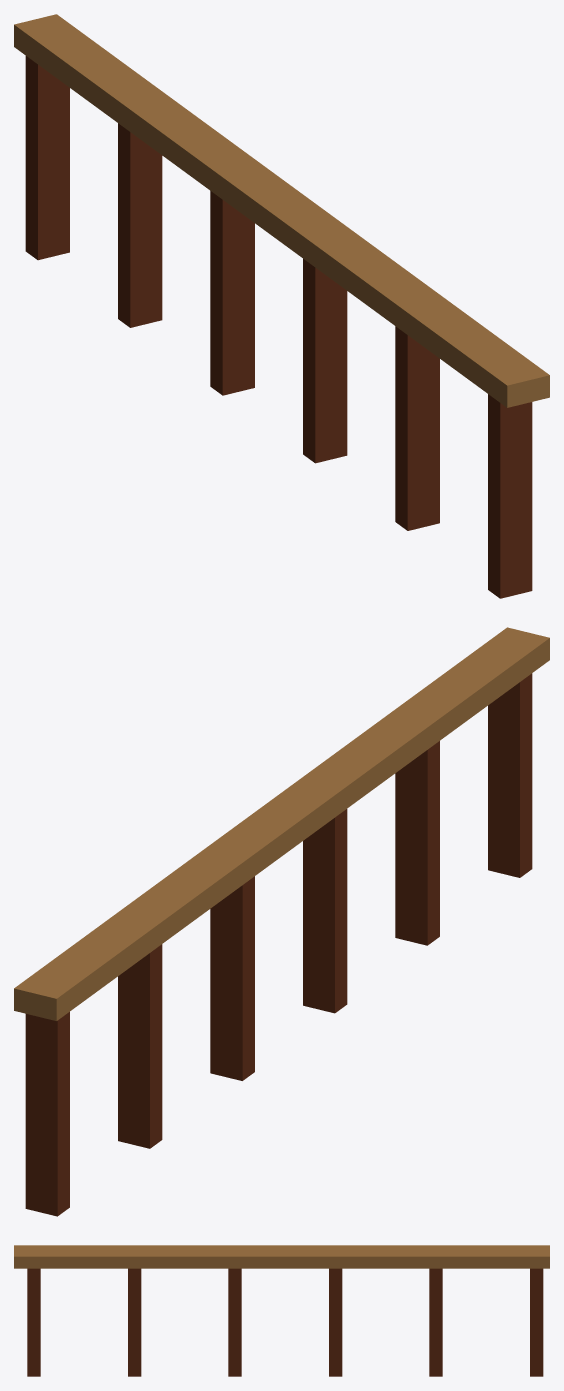
File: fence.gltf
The picture shows the model from 3 angles, top to bottom: view 1: azimuth 30°, elevation 25°; view 2: azimuth 150°, elevation 25°; view 3: azimuth 270°, elevation 25°; orthographic projection. The views are drawn at different scales.
Visible parts, largest first — view 1: cuboid (×7); view 2: cuboid (×7); view 3: cuboid (×7).
Boxes of the visible parts, x1,y1,x2,y2 form: cuboid (×7): (14, 14, 549, 598); cuboid (×7): (14, 627, 549, 1216); cuboid (×7): (14, 1245, 549, 1376).
Size of the model in its own units: 0.05 by 0.25 by 1.
1 material, 1 textured.
